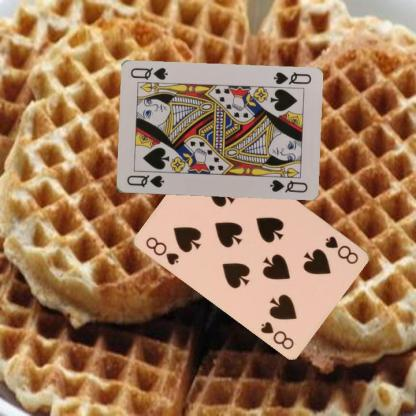8s: (322, 233, 360, 266), (143, 234, 181, 266)
Qs: (270, 69, 312, 86), (124, 172, 165, 189)
